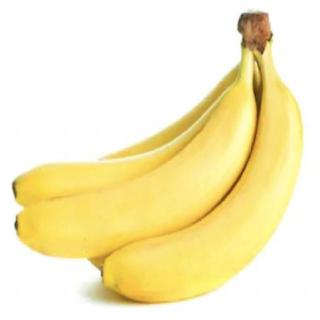banana: (99, 82, 305, 306), (12, 82, 259, 260)
